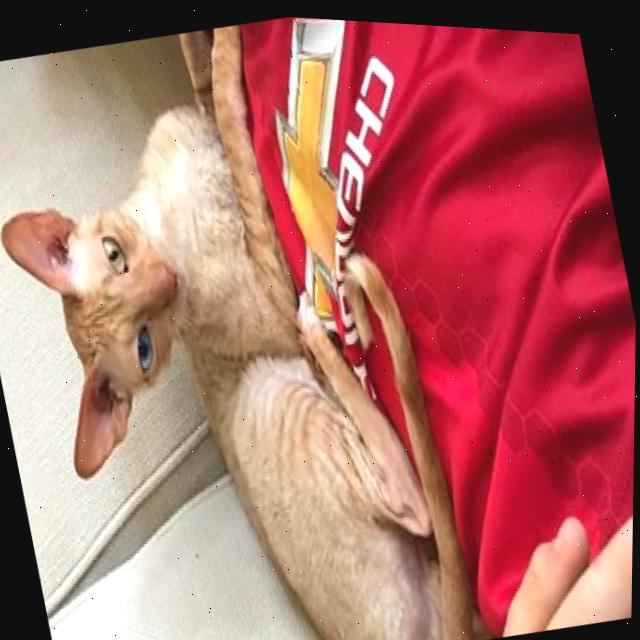Cornish Rex: (0, 0, 494, 640)
